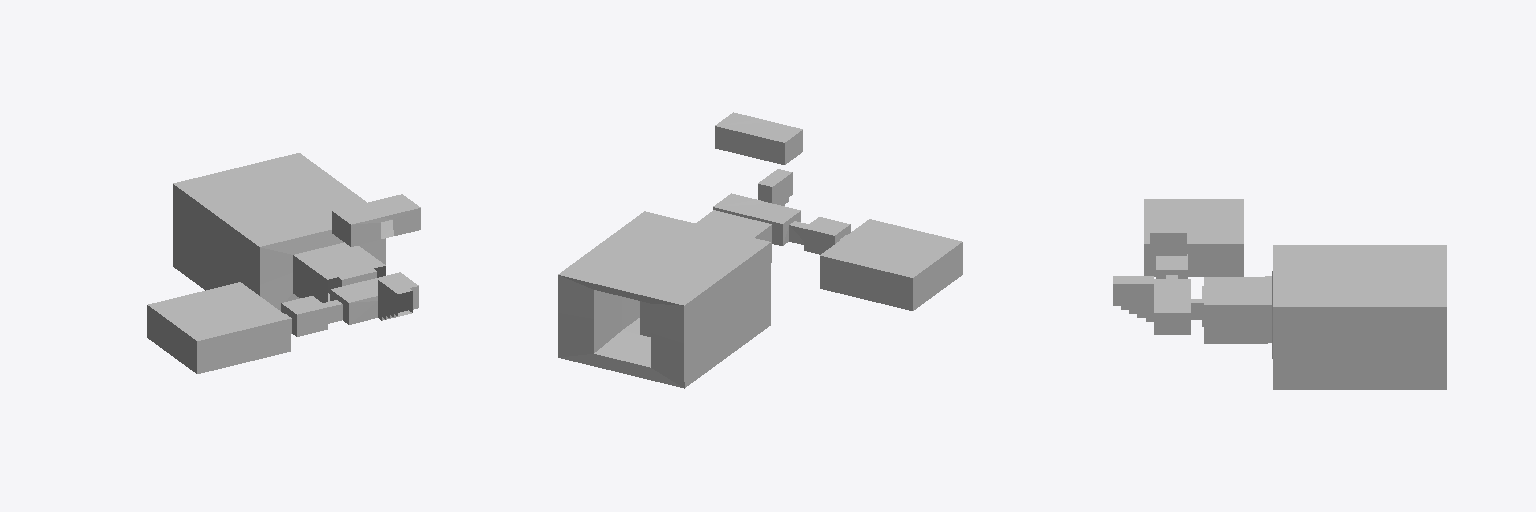
File: castle_dungeon_walls.obj
3 renders of one model, left to right at view 1: azimuth 30°, elevation 25°; view 2: azimuth 150°, elevation 25°; view 3: azimuth 270°, elevation 25°, orthographic.
Visible parts, largest first — view 1: castle_dungeon_walls.001; view 2: castle_dungeon_walls.001; view 3: castle_dungeon_walls.001.
Boxes of the visible parts, x1,y1,x2,y2 form: castle_dungeon_walls.001: [147, 153, 420, 373]; castle_dungeon_walls.001: [558, 112, 962, 388]; castle_dungeon_walls.001: [1113, 199, 1446, 389].
Bounding box in the file's own units: 67.21 × 36.28 × 76.58.